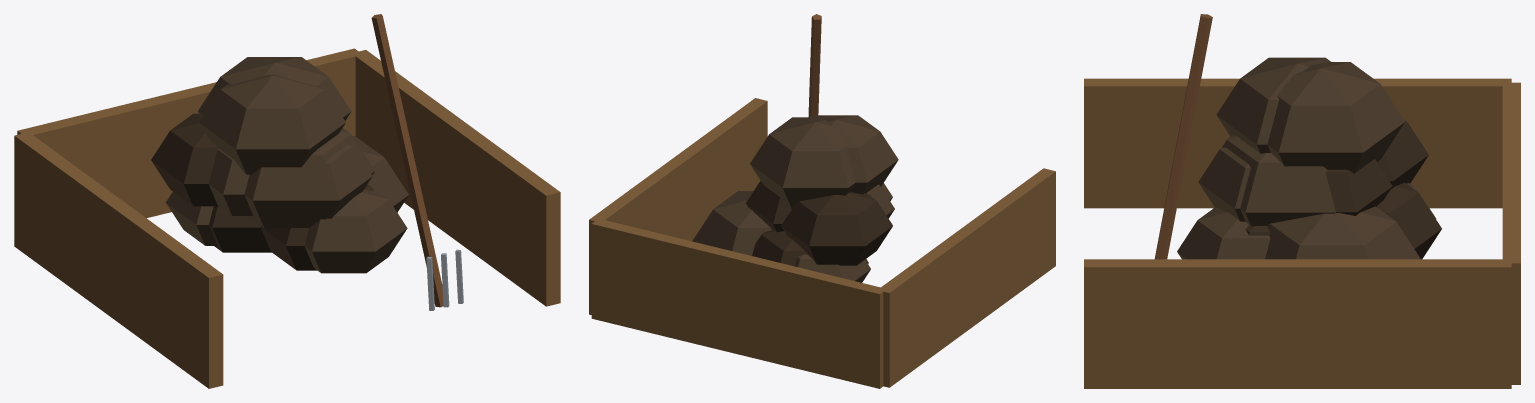
The model's file is pile_fertilizer_3.glb.
3 renders of one model, left to right at view 1: azimuth 30°, elevation 25°; view 2: azimuth 150°, elevation 25°; view 3: azimuth 270°, elevation 25°, orthographic. The views are drawn at different scales.
Parts seen in each view (by area): view 1: pile_fertilizer_3; view 2: pile_fertilizer_3; view 3: pile_fertilizer_3.
Boxes of the visible parts, bbox=[...] form: pile_fertilizer_3: bbox=[14, 14, 560, 388]; pile_fertilizer_3: bbox=[589, 14, 1055, 388]; pile_fertilizer_3: bbox=[1084, 14, 1520, 388].
Bounding box in the file's own units: 1.46 × 1.11 × 1.43.
